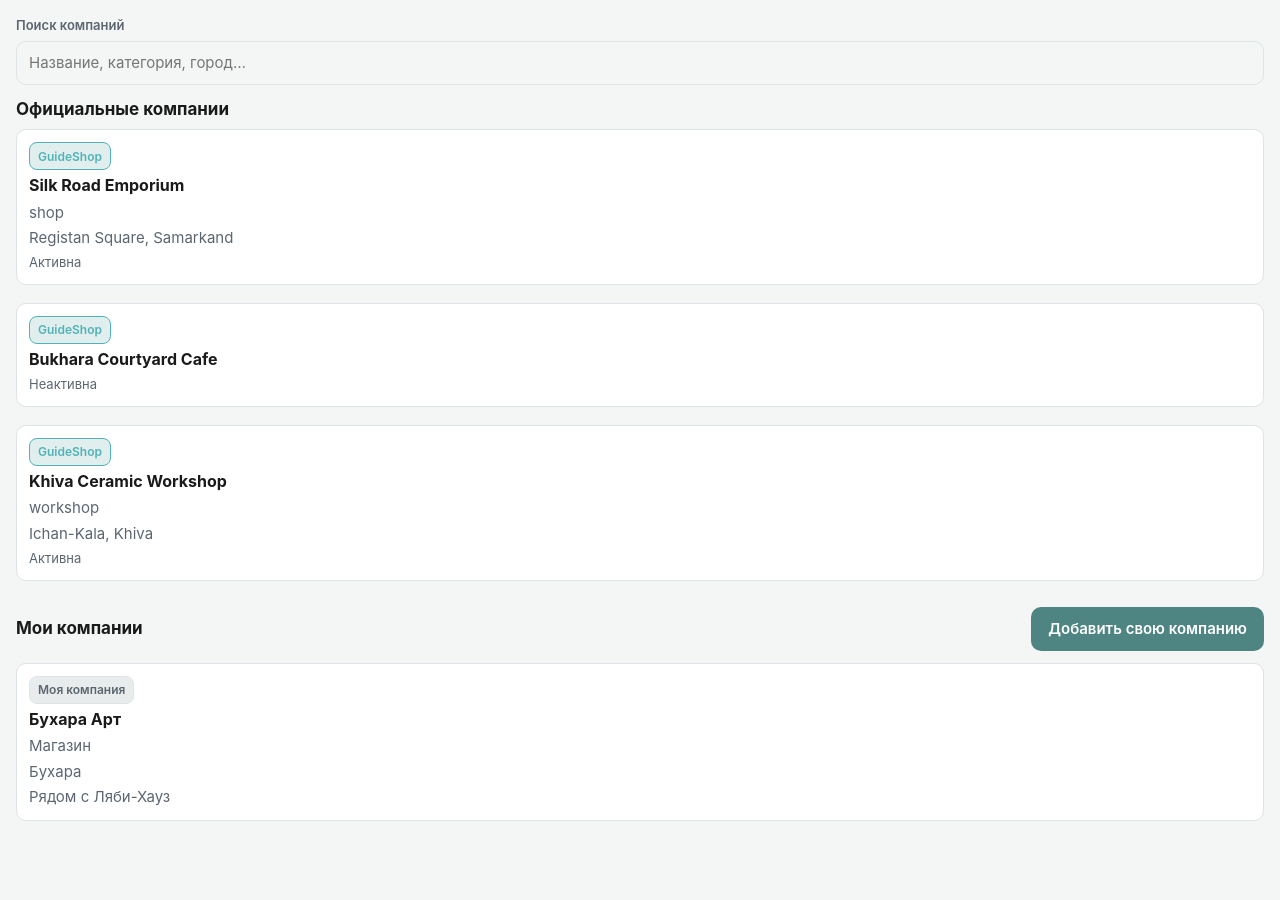
Test: GuideShop personal commissions UI (simplified) › history and detail show only date, commission, and note
Click the button "Моя компания Бухара Арт Магазин Бухара Рядом с Ляби-Хауз" at (640, 742), box [16,663,1264,821]
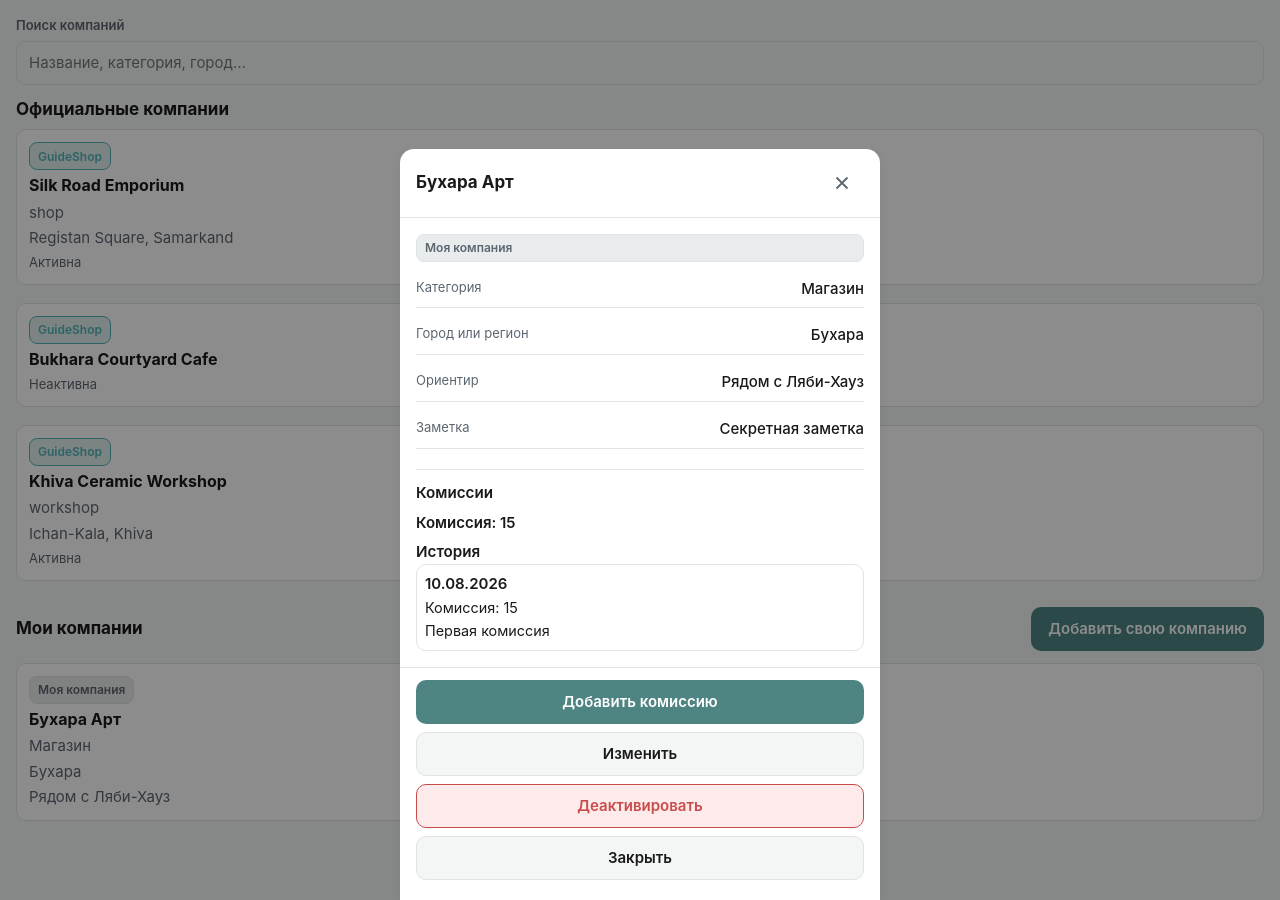
expect the number of buttons named "Открыть комиссию за" is 1: met
expect the button with aria-label "Открыть комиссию за" shows "10.08.2026": met
expect the button with aria-label "Открыть комиссию за" shows "Первая комиссия": met
Click the button with aria-label "Открыть комиссию за" at (466, 583), box [416,564,864,651]
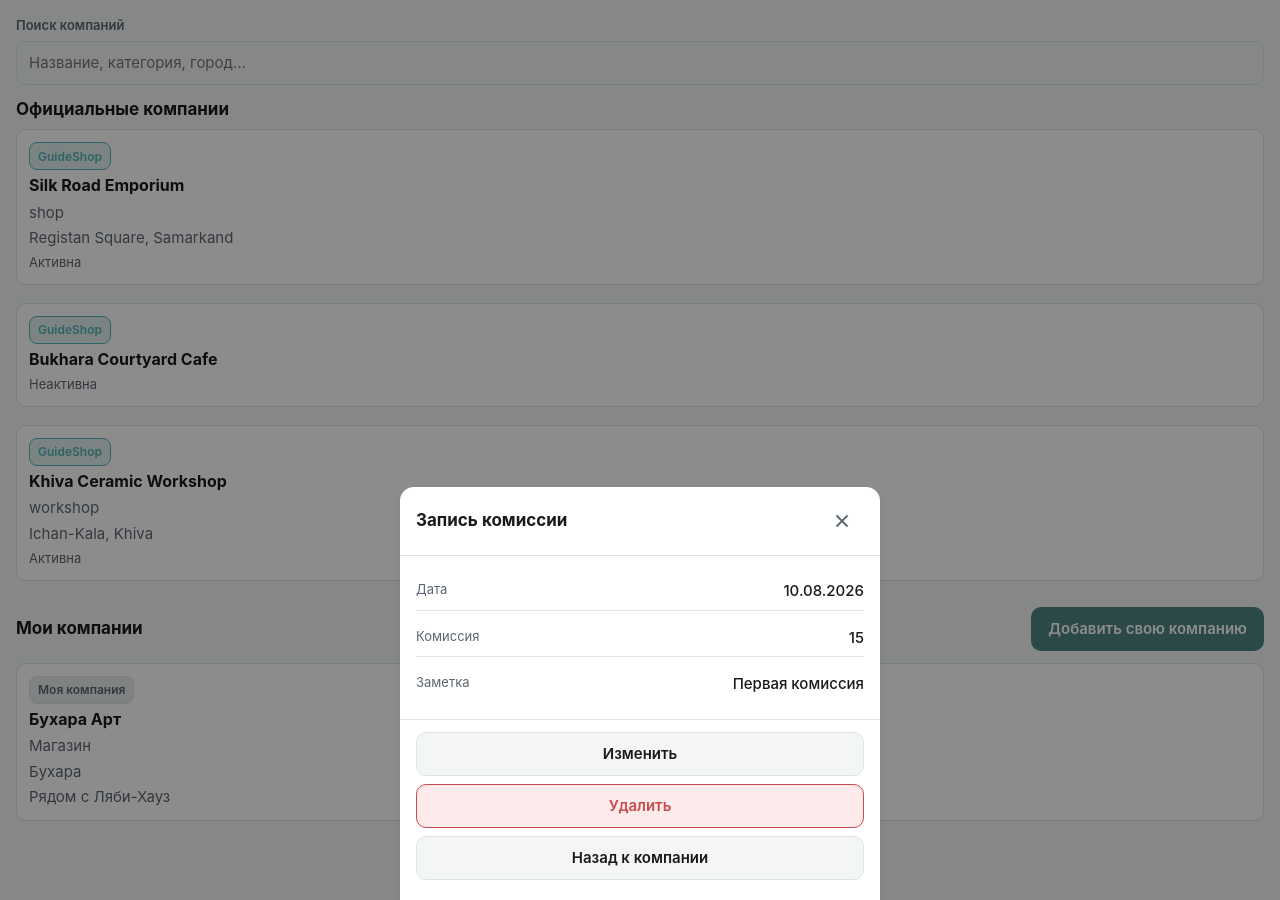
expect the text "10.08.2026" is shown: met, box [783,580,864,602]
expect the text "15" is shown: met, box [849,626,864,648]
expect the text "Запись комиссии" is shown: met, box [416,510,567,530]
